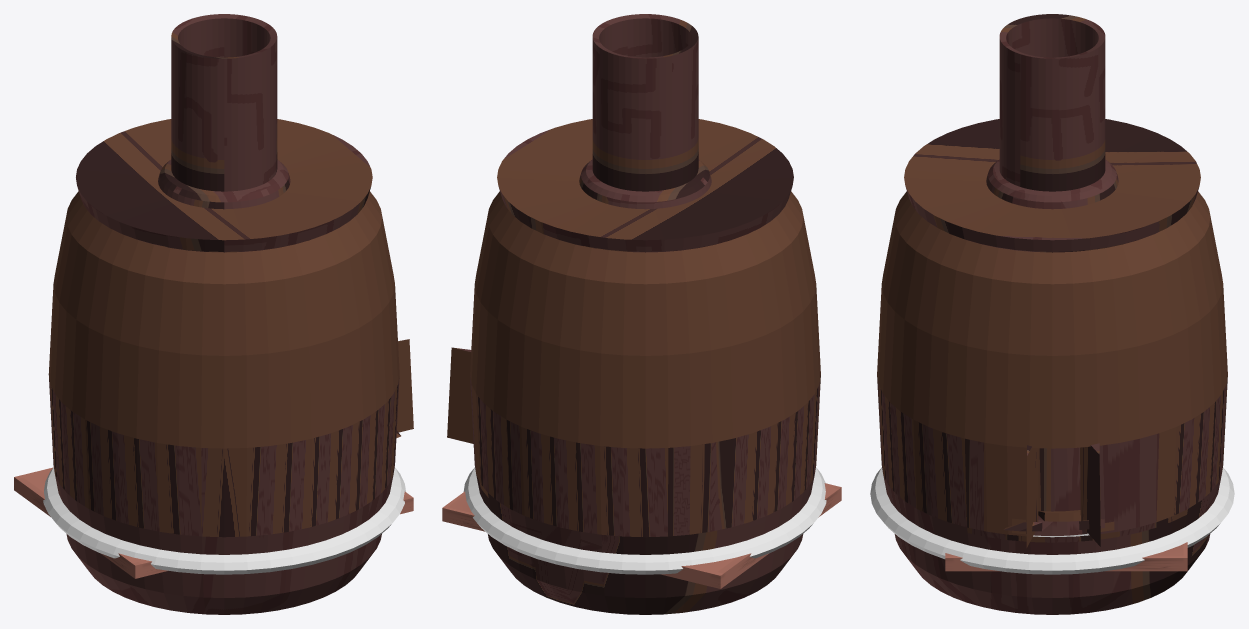
Rendered from forbidden-temple.glb.
3 views of the same model, side by side, from view 1: azimuth 30°, elevation 25°; view 2: azimuth 150°, elevation 25°; view 3: azimuth 270°, elevation 25° (orthographic).
Visible parts, largest first — view 1: Walls, Platform Tunnel, Outer Rim, Floor; view 2: Walls, Platform Tunnel, Outer Rim, Floor; view 3: Walls, Platform Tunnel, Outer Rim, Floor.
Boxes of the visible parts, left/top/right/bottom form: Walls: left=48, top=191, right=413, bottom=614; Platform Tunnel: left=76, top=14, right=372, bottom=251; Outer Rim: left=43, top=467, right=405, bottom=574; Floor: left=14, top=467, right=413, bottom=578; Walls: left=447, top=191, right=820, bottom=614; Platform Tunnel: left=497, top=14, right=793, bottom=251; Outer Rim: left=463, top=467, right=826, bottom=574; Floor: left=442, top=483, right=841, bottom=588; Walls: left=877, top=191, right=1227, bottom=614; Platform Tunnel: left=904, top=14, right=1200, bottom=251; Outer Rim: left=870, top=467, right=1234, bottom=574; Floor: left=945, top=542, right=1187, bottom=571.
Bounding box in the file's own units: 52.71 × 78.2 × 49.73.
3 materials, 3 textured.
